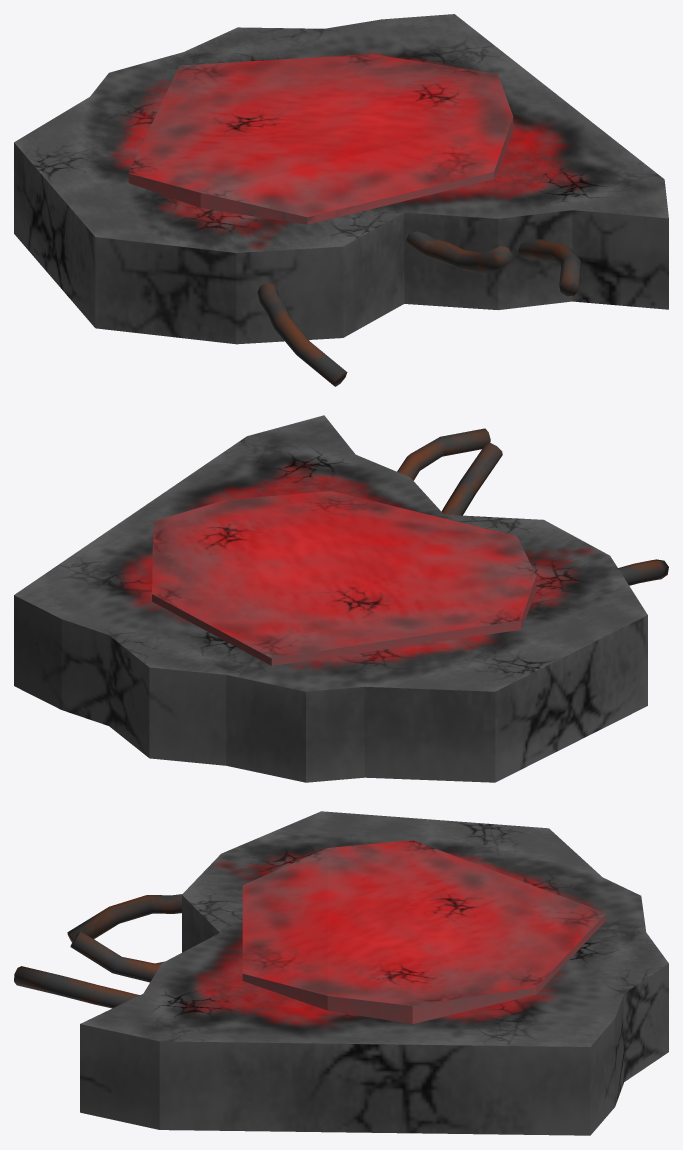
File: JoãoPedroBaião_882555 (2).fbx_DestrocosMetal.fbx
3 views of the same model, one above another, from view 1: azimuth 30°, elevation 25°; view 2: azimuth 150°, elevation 25°; view 3: azimuth 270°, elevation 25° (orthographic). The views are drawn at different scales.
Parts seen in each view (by area): view 1: DestrocosMetal; view 2: DestrocosMetal; view 3: DestrocosMetal.
Part boxes in pixels (<box>): DestrocosMetal: <box>14,14,668,386</box>; DestrocosMetal: <box>14,415,668,782</box>; DestrocosMetal: <box>14,811,668,1135</box>.
Bounding box in the file's own units: 101 × 21.33 × 119.
